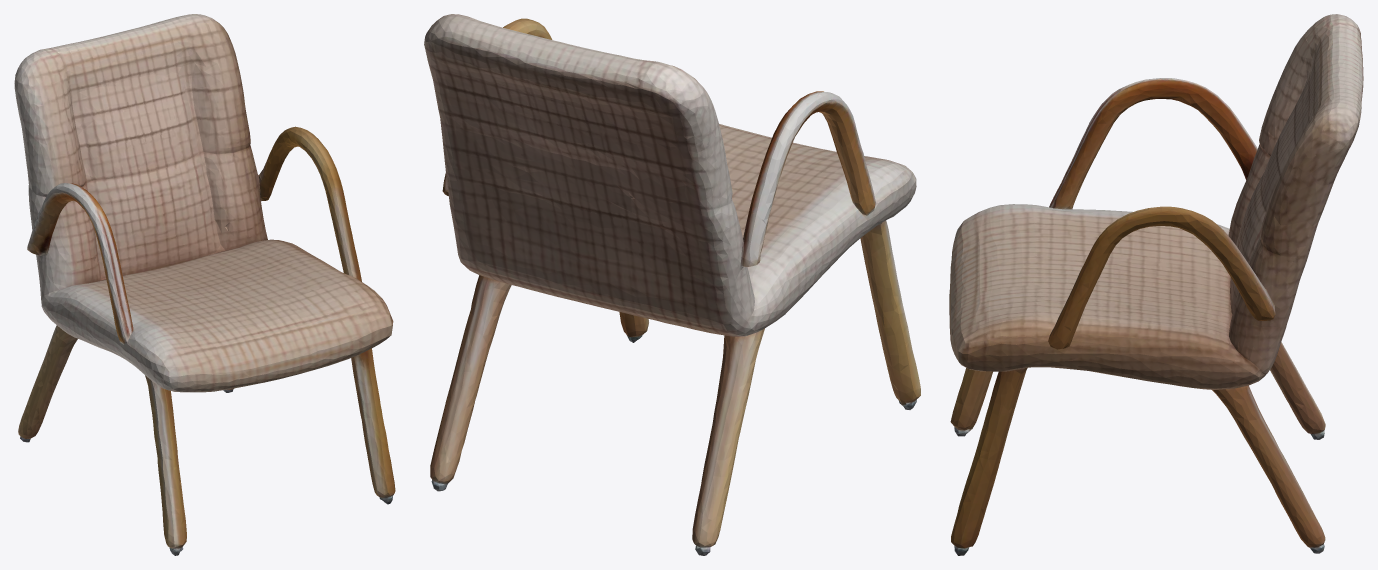
The model's file is ast_57daabd937d2.glb.
3 renders of one model, left to right at view 1: azimuth 30°, elevation 25°; view 2: azimuth 150°, elevation 25°; view 3: azimuth 270°, elevation 25°, orthographic. The views are drawn at different scales.
Visible parts, largest first — view 1: geometry_0; view 2: geometry_0; view 3: geometry_0.
Part boxes in pixels (box(x1,y1,x2,y2)): geometry_0: box(14, 14, 395, 555); geometry_0: box(424, 14, 920, 555); geometry_0: box(949, 14, 1363, 555).
Size of the model in its own units: 0.5168 by 0.7688 by 0.6613.
1 material, 1 textured.
